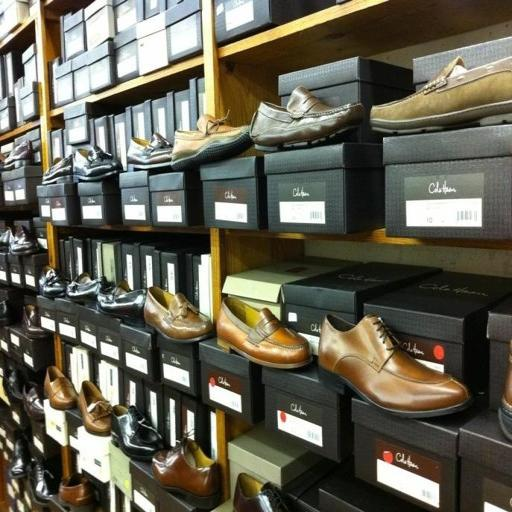shoe: (317, 314, 472, 418), (369, 56, 512, 134), (250, 86, 364, 151), (216, 297, 312, 369), (152, 438, 220, 510), (172, 114, 253, 171), (144, 286, 214, 342), (111, 404, 164, 461), (233, 472, 291, 512), (97, 280, 146, 325), (77, 380, 112, 436), (73, 145, 123, 181), (127, 133, 173, 169), (27, 458, 59, 505), (44, 365, 77, 410), (58, 472, 94, 512), (498, 340, 512, 441), (66, 272, 107, 302), (8, 435, 31, 479), (39, 265, 69, 298), (4, 139, 34, 170), (42, 155, 73, 185), (22, 382, 45, 422), (22, 304, 48, 339), (10, 225, 40, 255), (2, 368, 26, 404), (0, 227, 13, 253), (0, 300, 13, 326)
